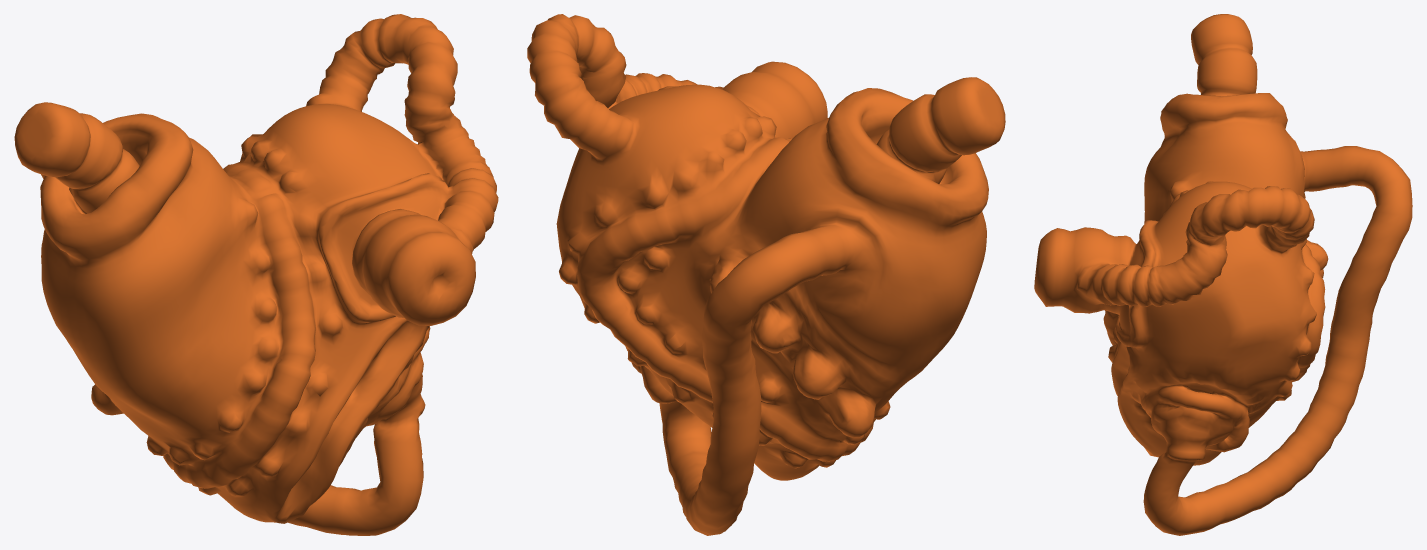
3 views of the same model, side by side, from view 1: azimuth 30°, elevation 25°; view 2: azimuth 150°, elevation 25°; view 3: azimuth 270°, elevation 25° (orthographic). The views are drawn at different scales.
Visible parts, largest first — view 1: heart_low; view 2: heart_low; view 3: heart_low.
Part boxes in pixels (<box>): heart_low: <box>14,14,498,535</box>; heart_low: <box>527,14,1005,535</box>; heart_low: <box>1034,14,1412,535</box>.
Bounding box in the file's own units: 25.87 × 27.58 × 23.42.
